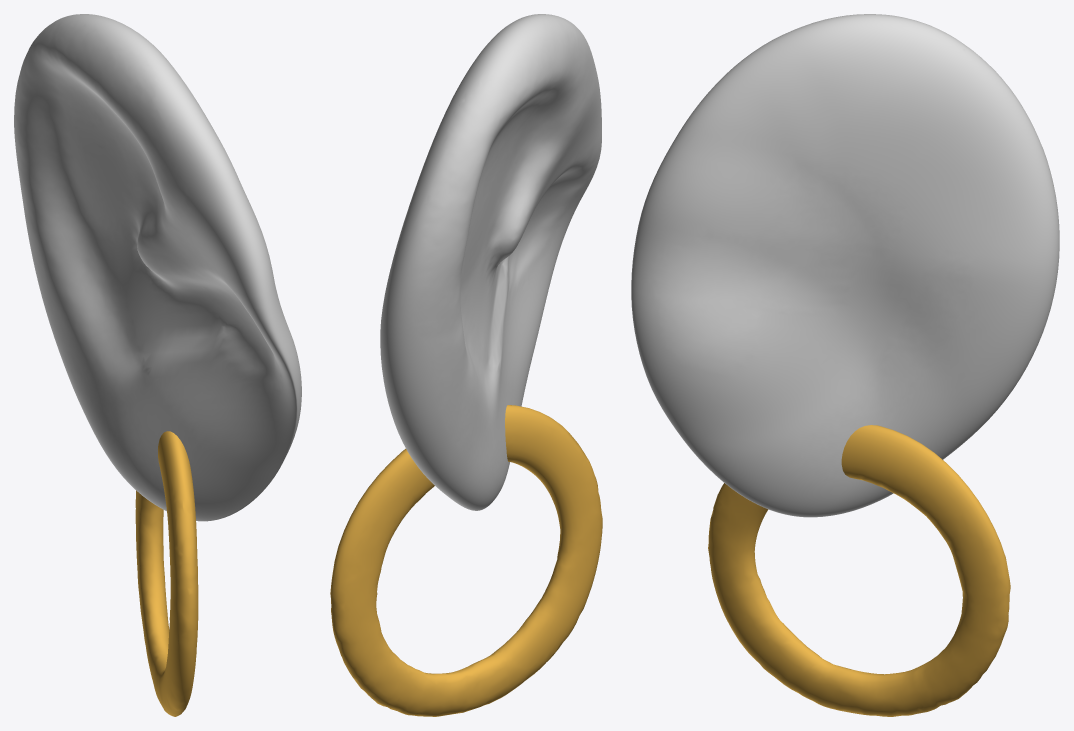
The model's file is Model_Ear_004_averagehoops.fbx.
3 renders of one model, left to right at view 1: azimuth 30°, elevation 25°; view 2: azimuth 150°, elevation 25°; view 3: azimuth 270°, elevation 25°, orthographic. The views are drawn at different scales.
Parts seen in each view (by area): view 1: Model_Ears_averagehoops_004; view 2: Model_Ears_averagehoops_004; view 3: Model_Ears_averagehoops_004.
Part boxes in pixels (<box>): Model_Ears_averagehoops_004: <box>14,14,301,716</box>; Model_Ears_averagehoops_004: <box>330,14,602,716</box>; Model_Ears_averagehoops_004: <box>631,14,1059,716</box>.
Size of the model in its own units: 23.59 by 109 by 62.58.
